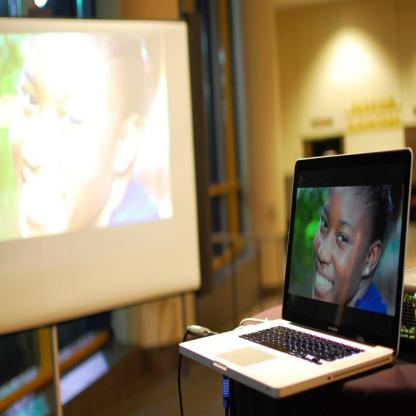board: (180, 150, 412, 398)
